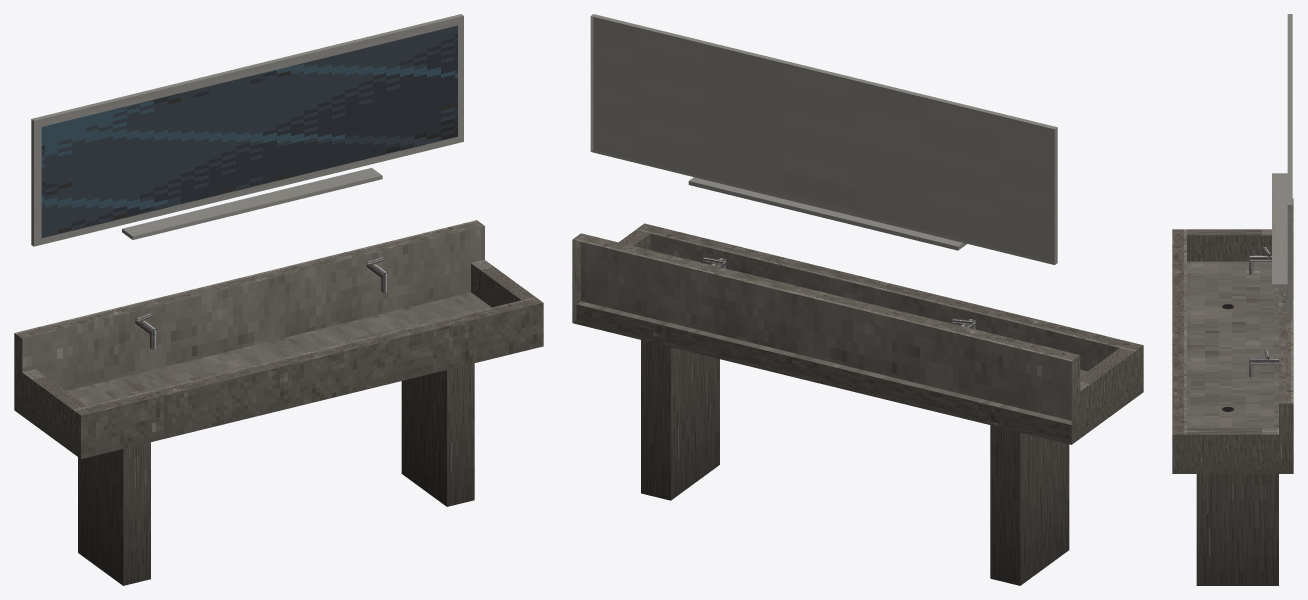
File: prop_hallsink-20-2.glb
3 renders of one model, left to right at view 1: azimuth 30°, elevation 25°; view 2: azimuth 150°, elevation 25°; view 3: azimuth 270°, elevation 25°, orthographic. The views are drawn at different scales.
Visible parts, largest first — view 1: prop_hallsink-20-2; view 2: prop_hallsink-20-2; view 3: prop_hallsink-20-2.
Part boxes in pixels (x1,y1,x2,y2): prop_hallsink-20-2: [14, 14, 543, 585]; prop_hallsink-20-2: [572, 14, 1143, 585]; prop_hallsink-20-2: [1172, 14, 1293, 585].
Size of the model in its own units: 2 by 1.81 by 0.5.
3 materials, 3 textured.
